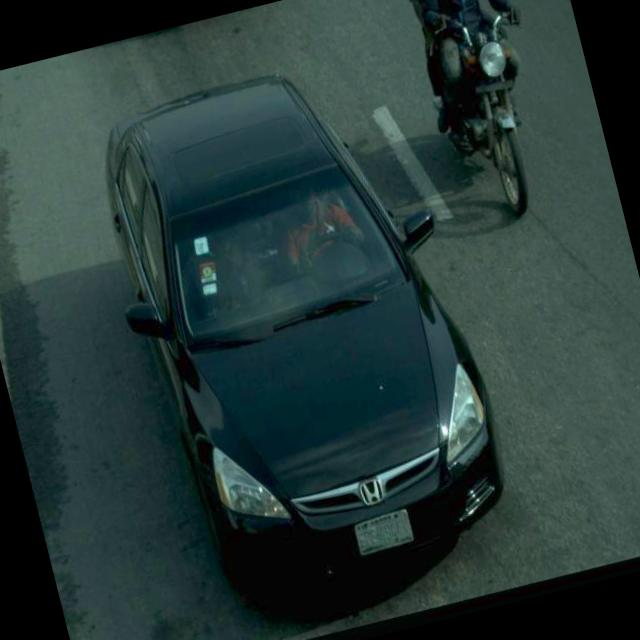person_with_seatbelt: (256, 162, 386, 310)
